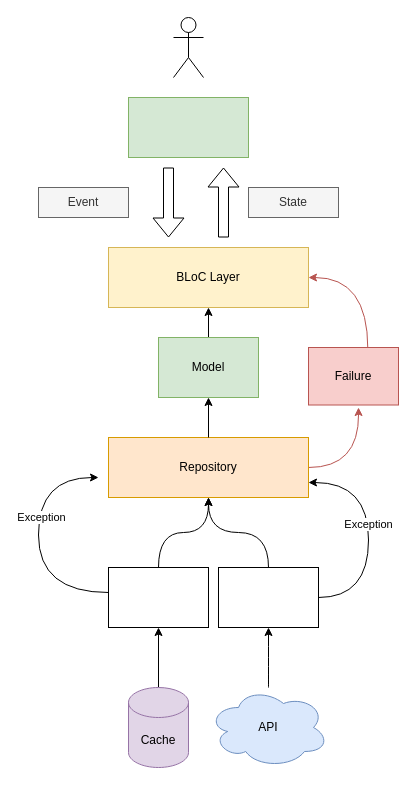
Image size: 416x785. Some labels were removed from this diagram. The centre of each missing label's shape, as x and y in pixels:
"Local Provider" belongs at [158,597].
"Remote Provider" belongs at [268,597].
"User" belongs at [188,47].
"Widgets" belongs at [188,127].
